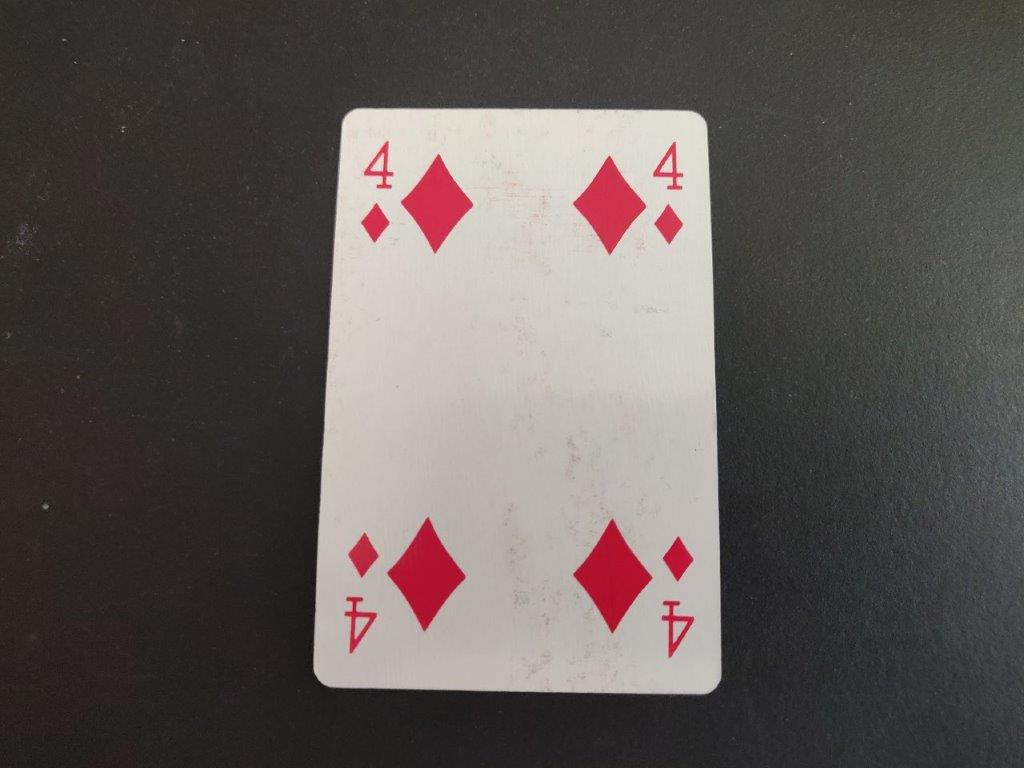4D: (651, 139, 689, 247), (358, 138, 395, 244)
